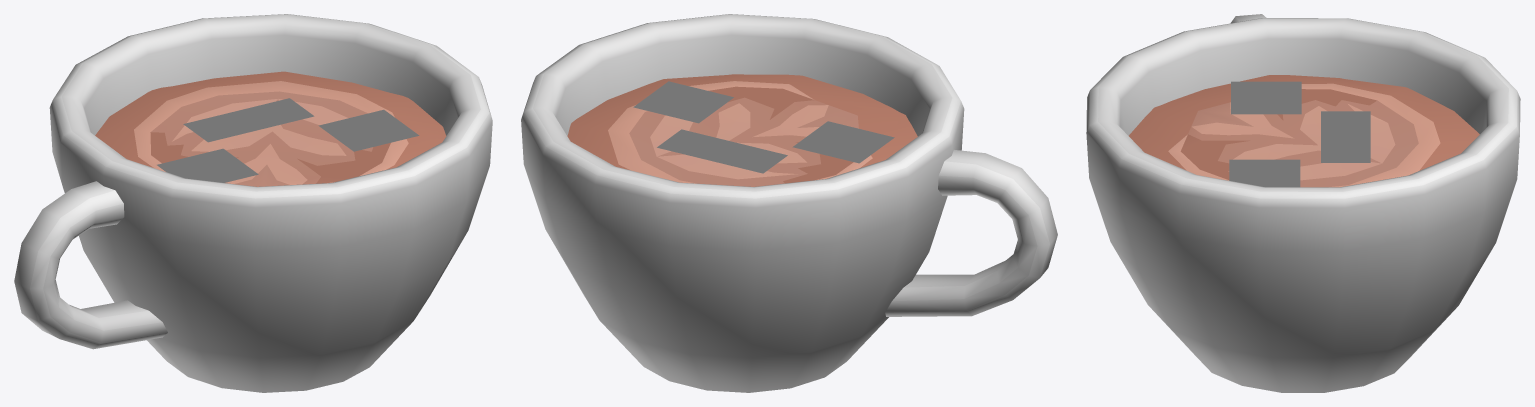
The model's file is coffee_smile.fbx.
3 renders of one model, left to right at view 1: azimuth 30°, elevation 25°; view 2: azimuth 150°, elevation 25°; view 3: azimuth 270°, elevation 25°, orthographic.
Visible parts, largest first — view 1: coffee_smile; view 2: coffee_smile; view 3: coffee_smile.
Part boxes in pixels (bbox=[...]): coffee_smile: bbox=[14, 14, 492, 392]; coffee_smile: bbox=[521, 14, 1057, 392]; coffee_smile: bbox=[1086, 14, 1520, 392].
Size of the model in its own units: 20.27 by 16.25 by 10.01.
2 materials, 1 textured.
